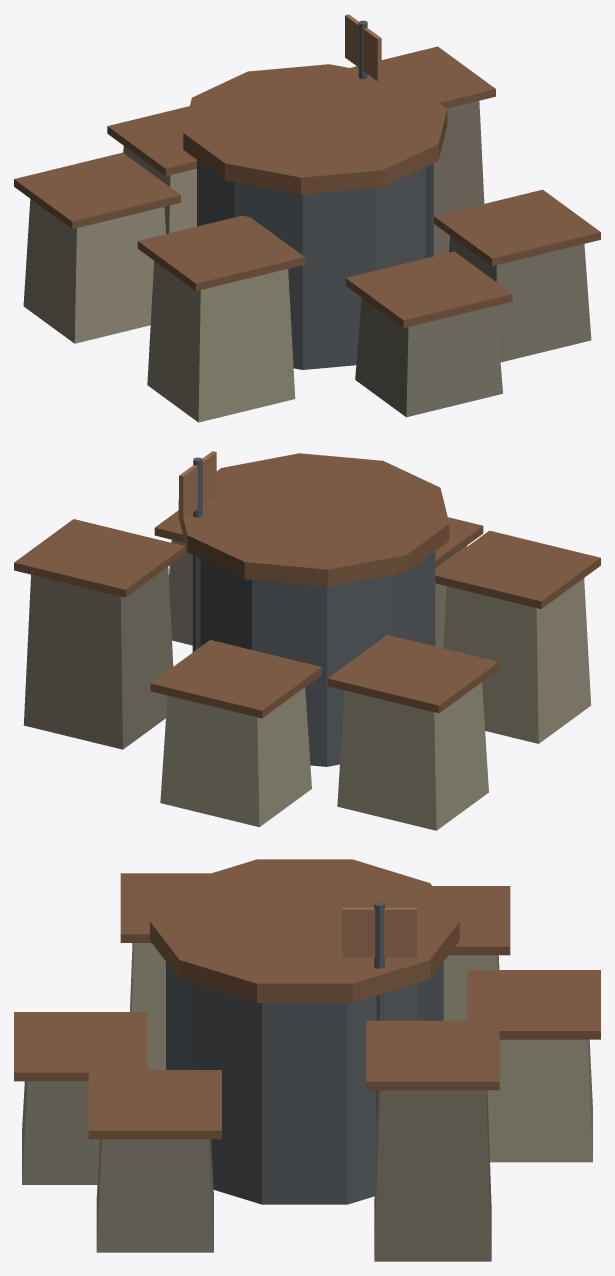
The model's file is wm_settlement_syndic.glb.
3 renders of one model, top to bottom at view 1: azimuth 30°, elevation 25°; view 2: azimuth 150°, elevation 25°; view 3: azimuth 270°, elevation 25°, orthographic. The views are drawn at different scales.
Visible parts, largest first — view 1: rec_cap, reclaimer, hab0, hab2, hab4, hab1, roof4, roof2, roof0, roof1, hab3, roof3 (+3 smaller); view 2: rec_cap, hab3, reclaimer, hab2, hab0, hab5, roof2, roof3, roof5, roof0, hab1, banner (+4 smaller); view 3: reclaimer, rec_cap, hab3, hab1, hab5, roof3, roof1, roof5, roof4, hab4, roof2, banner (+4 smaller).
Part boxes in pixels (<box>): rec_cap: <box>183,64,447,194</box>; reclaimer: <box>197,160,433,369</box>; hab0: <box>147,261,295,422</box>; hab2: <box>23,199,165,343</box>; hab4: <box>355,297,502,417</box>; hab1: <box>449,236,591,362</box>; roof4: <box>345,251,512,327</box>; roof2: <box>14,152,180,229</box>; roof0: <box>137,215,304,290</box>; roof1: <box>434,189,600,266</box>; hab3: <box>433,101,484,256</box>; roof3: <box>350,46,495,108</box>; rec_cap: <box>178,453,449,586</box>; hab3: <box>23,567,173,749</box>; reclaimer: <box>192,551,435,766</box>; hab2: <box>337,682,488,830</box>; hab0: <box>443,578,591,743</box>; hab5: <box>160,687,311,827</box>; roof2: <box>327,634,498,713</box>; roof3: <box>14,519,185,597</box>; roof5: <box>150,640,321,718</box>; roof0: <box>435,530,600,608</box>; hab1: <box>169,540,192,645</box>; banner: <box>179,451,216,519</box>; reclaimer: <box>166,962,443,1204</box>; rec_cap: <box>150,859,459,1002</box>; hab3: <box>374,1090,491,1261</box>; hab1: <box>96,1139,213,1252</box>; hab5: <box>487,1039,592,1162</box>; roof3: <box>366,1020,499,1090</box>; roof1: <box>88,1070,221,1139</box>; roof5: <box>467,970,600,1039</box>; roof4: <box>14,1012,147,1081</box>; hab4: <box>22,1081,99,1184</box>; roof2: <box>432,886,510,955</box>; banner: <box>342,907,416,957</box>.
Size of the model in its own units: 10.4 by 6 by 11.
